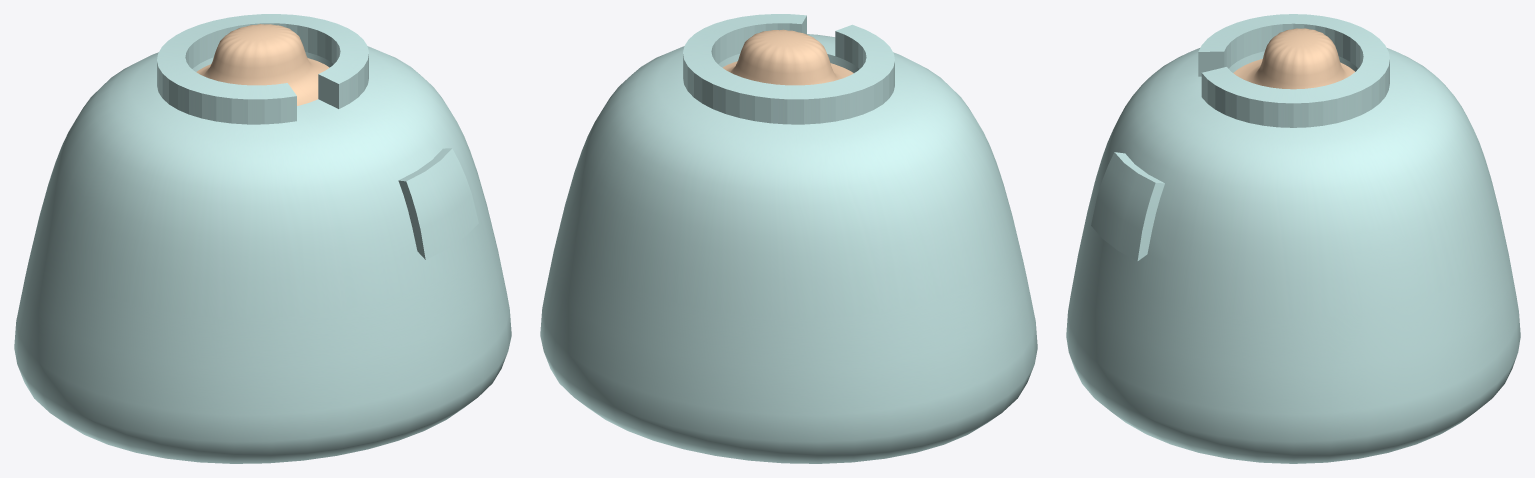
File: chonky body.fbx
3 views of the same model, side by side, from view 1: azimuth 30°, elevation 25°; view 2: azimuth 150°, elevation 25°; view 3: azimuth 270°, elevation 25° (orthographic). The views are drawn at different scales.
Parts seen in each view (by area): view 1: chonkyguy_body; view 2: chonkyguy_body; view 3: chonkyguy_body.
Part boxes in pixels (x1,y1,x2,y2): chonkyguy_body: (14,14,511,463); chonkyguy_body: (540,14,1037,463); chonkyguy_body: (1066,14,1520,463).
Bounding box in the file's own units: 113 × 86.01 × 104.
Materials: 2 (2 with a texture image).
